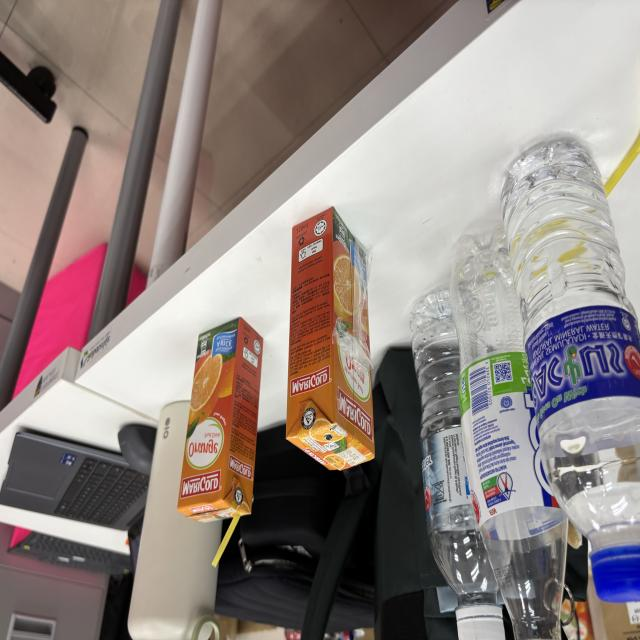drink_carton: (282, 193, 388, 486), (162, 309, 272, 591)
plastic_bottle: (488, 127, 640, 615), (442, 187, 566, 640), (402, 266, 524, 640)
